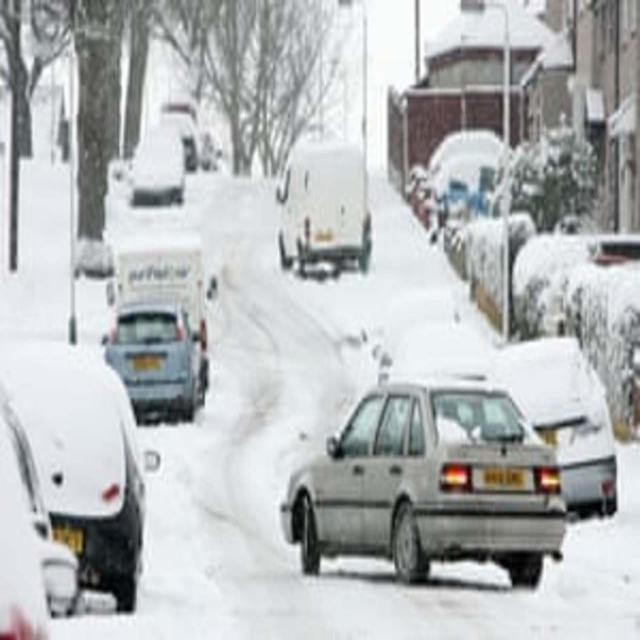Car: (279, 373, 561, 582), (463, 336, 620, 518), (0, 424, 78, 640), (96, 304, 206, 421), (127, 122, 193, 205)
Van: (0, 334, 162, 616), (103, 232, 221, 404), (276, 141, 373, 277)
